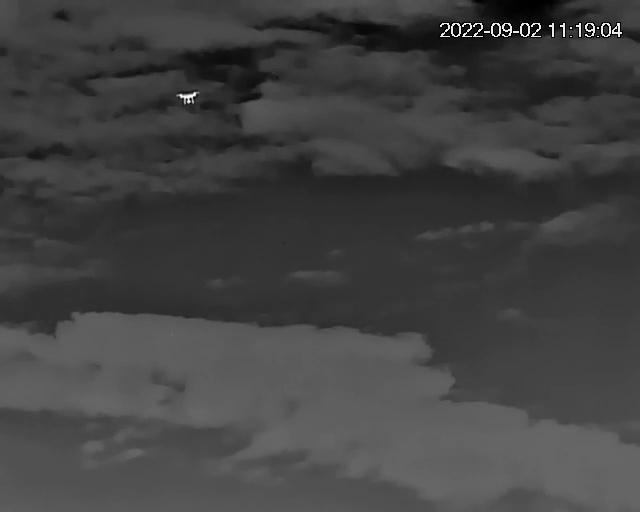DJI-Phantom: (176, 91, 201, 107)
